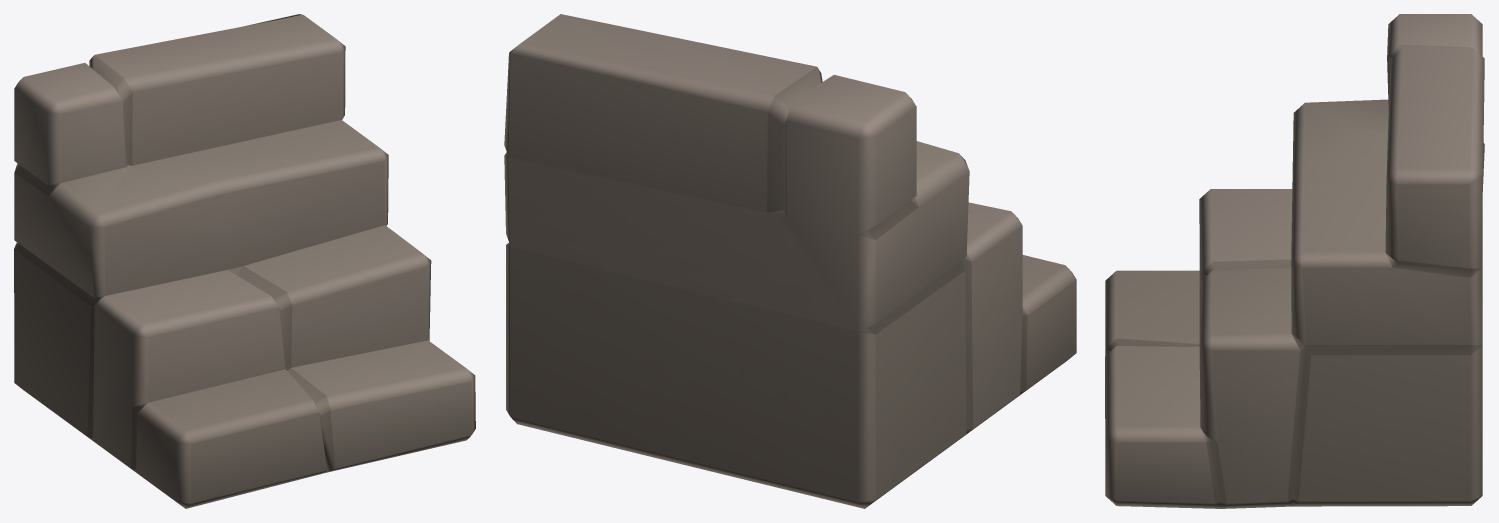
File: elf_stairs_shade_4.fbx
3 views of the same model, side by side, from view 1: azimuth 30°, elevation 25°; view 2: azimuth 150°, elevation 25°; view 3: azimuth 270°, elevation 25° (orthographic). The views are drawn at different scales.
Visible parts, largest first — view 1: elf_stairs_shade_4; view 2: elf_stairs_shade_4; view 3: elf_stairs_shade_4.
Part boxes in pixels (left/top/right/bottom): elf_stairs_shade_4: left=14, top=14, right=475, bottom=508; elf_stairs_shade_4: left=504, top=14, right=1076, bottom=508; elf_stairs_shade_4: left=1105, top=14, right=1484, bottom=508.
Size of the model in its own units: 101 by 102 by 101.
